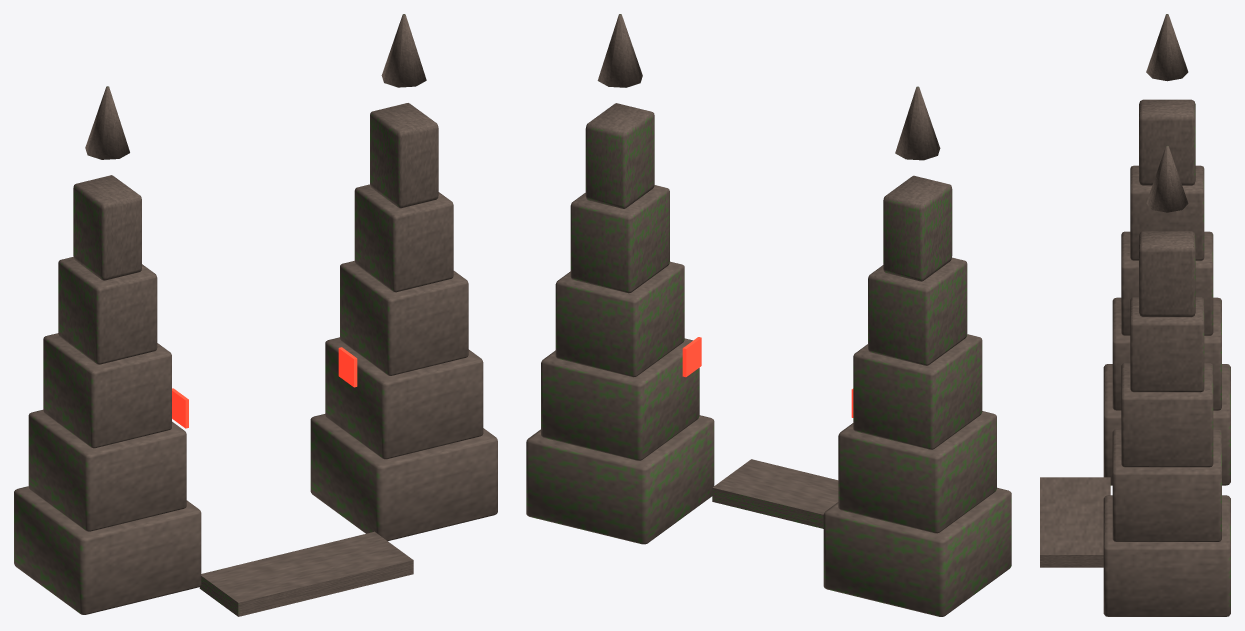
File: prop_candi_gapura.glb
The picture shows the model from 3 angles, left to right: view 1: azimuth 30°, elevation 25°; view 2: azimuth 150°, elevation 25°; view 3: azimuth 270°, elevation 25°; orthographic projection. The views are drawn at different scales.
Visible parts, largest first — view 1: candi_gapura; view 2: candi_gapura; view 3: candi_gapura.
Part boxes in pixels (box(x1,y1,x2,y2)): candi_gapura: box(14, 14, 497, 616); candi_gapura: box(526, 14, 1011, 616); candi_gapura: box(1040, 14, 1230, 616).
Size of the model in its own units: 6.2 by 7 by 2.7.
Materials: 2 (1 with a texture image).
